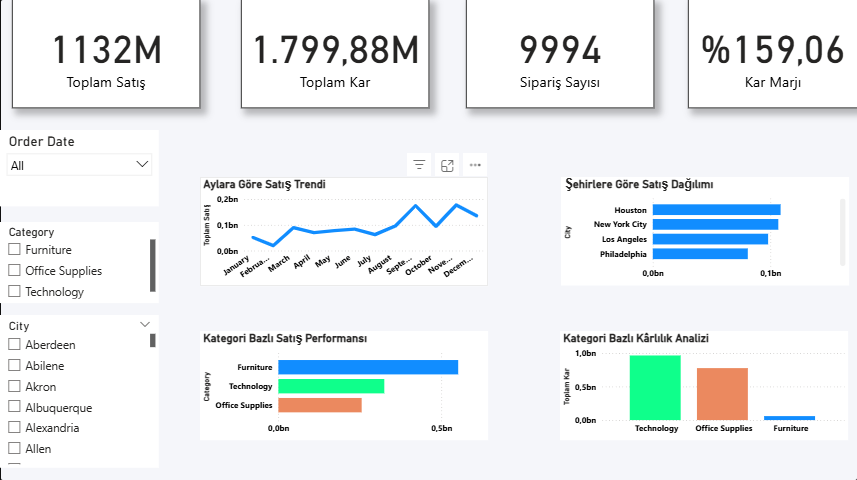

The page's visual inventory and layout, read from the dashboard file:
{"tool":"powerbi","page":{"name":"Page 1","canvas":[1280,720],"ordinal":0},"visuals":[{"type":"card","fields":{"Values":["Sample - Superstore.Toplam Satış"]},"box":[18.5,0,280.5,162.9],"z":0},{"type":"card","fields":{"Values":["Sample - Superstore.Toplam Kar"]},"box":[359.5,0,280.5,162.9],"z":1},{"type":"card","fields":{"Values":["Sample - Superstore.Sipariş Sayısı"]},"box":[695.4,0,280.5,162.9],"z":2},{"type":"lineChart","title":"Aylara Göre Satış Trendi","fields":{"Category":["Sample - Superstore.Order Date.Variation.Date Hierarchy.Month"],"Y":["Sample - Superstore.Toplam Satış"]},"box":[299,265.4,430,162.9],"z":3},{"type":"clusteredBarChart","title":"Kategori Bazlı Satış Performansı","fields":{"Category":["Sample - Superstore.Category"],"Y":["Sample - Superstore.Toplam Satış"]},"box":[299,495.5,430,162.9],"z":4},{"type":"clusteredBarChart","title":"Şehirlere Göre Satış Dağılımı","fields":{"Category":["Sample - Superstore.City"],"Y":["Sample - Superstore.Toplam Satış"]},"box":[836.9,265.9,429.5,161.9],"z":5},{"type":"clusteredColumnChart","title":"Kategori Bazlı Kârlılık Analizi","fields":{"Category":["Sample - Superstore.Category"],"Y":["Sample - Superstore.Toplam Kar"]},"box":[836.5,495.5,430,162.9],"z":6},{"type":"card","fields":{"Values":["Sample - Superstore.Kar Marjı"]},"box":[1026.4,0,253.6,162.9],"z":7},{"type":"slicer","fields":{"Values":["Sample - Superstore.Order Date"]},"box":[0,194.9,236.9,114.2],"z":8},{"type":"slicer","fields":{"Values":["Sample - Superstore.Category"]},"box":[0,332.6,236.9,120.9],"z":9},{"type":"slicer","fields":{"Values":["Sample - Superstore.City"]},"box":[0,472,236.9,228.5],"z":10}]}

Visuals, with their boxes on the page's 1280x720 design canvas (x1, y1, x2, y2). These are canvas units, not pixel positions in the 857x480 screenshot, which may show the page scaled, cropped or inside an application window:
card - Sample - Superstore.Toplam Satış: (18, 0, 299, 163)
card - Sample - Superstore.Toplam Kar: (360, 0, 640, 163)
card - Sample - Superstore.Sipariş Sayısı: (695, 0, 976, 163)
"Aylara Göre Satış Trendi" lineChart: (299, 265, 729, 428)
"Kategori Bazlı Satış Performansı" clusteredBarChart: (299, 496, 729, 658)
"Şehirlere Göre Satış Dağılımı" clusteredBarChart: (837, 266, 1266, 428)
"Kategori Bazlı Kârlılık Analizi" clusteredColumnChart: (836, 496, 1266, 658)
card - Sample - Superstore.Kar Marjı: (1026, 0, 1280, 163)
slicer - Sample - Superstore.Order Date: (0, 195, 237, 309)
slicer - Sample - Superstore.Category: (0, 333, 237, 454)
slicer - Sample - Superstore.City: (0, 472, 237, 700)
